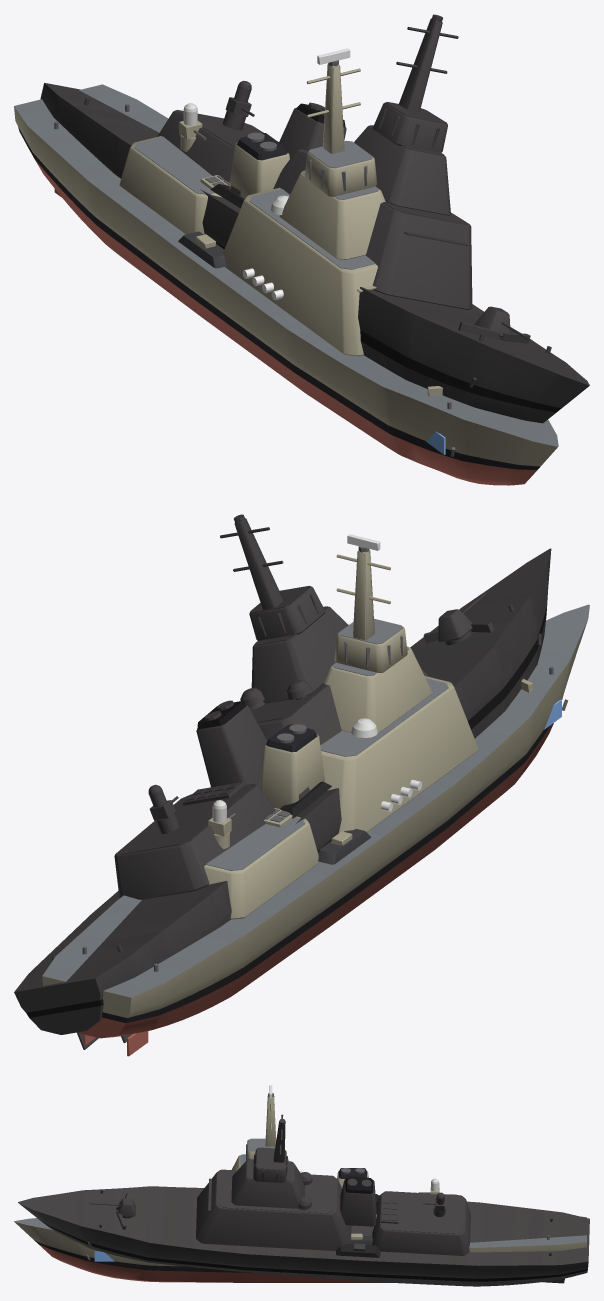
The model's file is corvette__karakurt_class.glb.
3 renders of one model, top to bottom at view 1: azimuth 30°, elevation 25°; view 2: azimuth 150°, elevation 25°; view 3: azimuth 270°, elevation 25°, orthographic. The views are drawn at different scales.
Visible parts, largest first — view 1: Hull_Mesh, Wreck; view 2: Hull_Mesh, Wreck; view 3: Wreck, Hull_Mesh.
Boxes of the visible parts, x1,y1,x2,y2 form: Hull_Mesh: (14, 63, 558, 485); Wreck: (40, 14, 589, 423); Hull_Mesh: (42, 549, 589, 1056); Wreck: (14, 514, 551, 1049); Wreck: (18, 1114, 589, 1286); Hull_Mesh: (14, 1096, 586, 1282).
Size of what is drawn, in the model's own units: 16.27 by 25.45 by 70.2.
